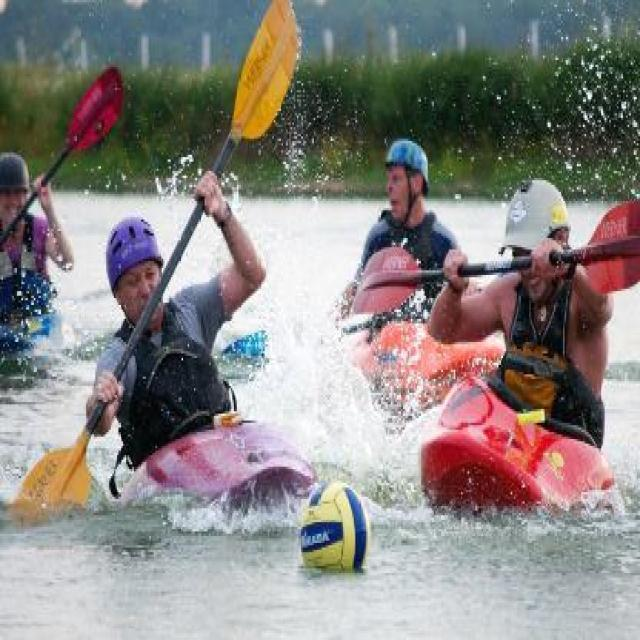volleyball: (299, 482, 371, 569)
